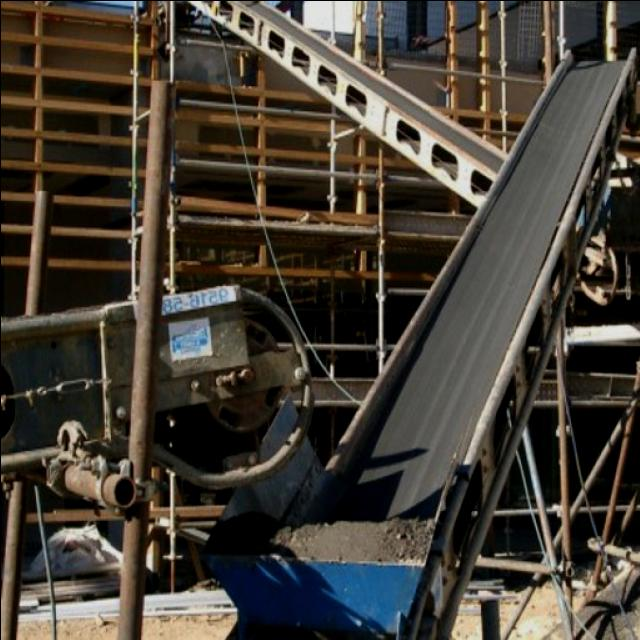conveyor: (290, 51, 634, 532)
